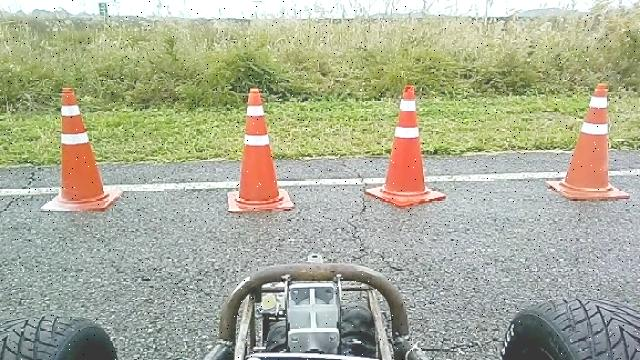red cone: (40, 86, 124, 211), (363, 83, 446, 207), (545, 81, 630, 200), (226, 87, 294, 212)
